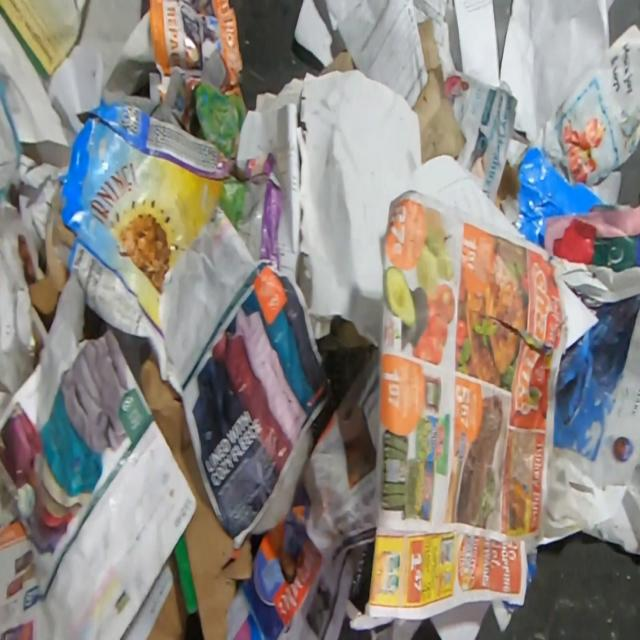cardboard: (27, 100, 284, 379), (135, 349, 253, 640), (512, 147, 606, 250), (119, 550, 204, 640), (493, 159, 520, 214)
rigid_plastic: (21, 125, 78, 172)
